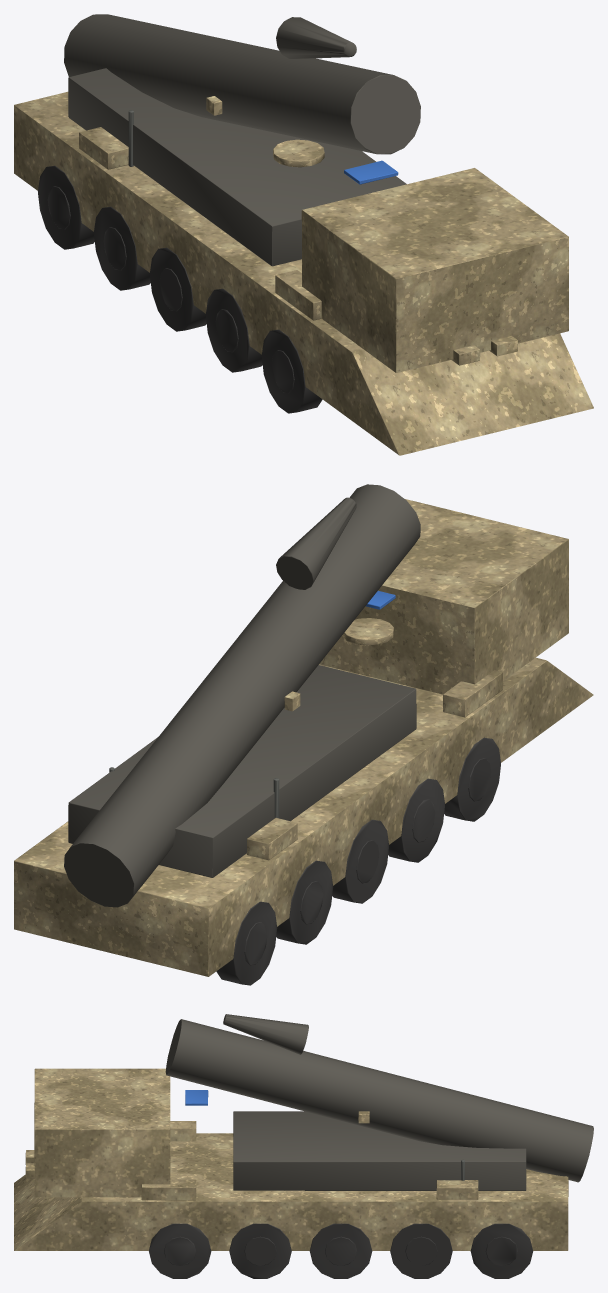
The model's file is msl_e4_us_ballistic_LOD1.glb.
The picture shows the model from 3 angles, top to bottom: view 1: azimuth 30°, elevation 25°; view 2: azimuth 150°, elevation 25°; view 3: azimuth 270°, elevation 25°; orthographic projection. The views are drawn at different scales.
Visible parts, largest first — view 1: msl_e4_us_ballistic_LOD1_body, msl_e4_us_ballistic_LOD1_deck, msl_e4_us_ballistic_LOD1_track, msl_e4_us_ballistic_LOD1_team; view 2: msl_e4_us_ballistic_LOD1_body, msl_e4_us_ballistic_LOD1_deck, msl_e4_us_ballistic_LOD1_track; view 3: msl_e4_us_ballistic_LOD1_body, msl_e4_us_ballistic_LOD1_deck, msl_e4_us_ballistic_LOD1_track, msl_e4_us_ballistic_LOD1_team.
Part boxes in pixels (<box>): msl_e4_us_ballistic_LOD1_body: <box>14,91,593,455</box>; msl_e4_us_ballistic_LOD1_deck: <box>64,14,420,266</box>; msl_e4_us_ballistic_LOD1_track: <box>38,165,322,413</box>; msl_e4_us_ballistic_LOD1_team: <box>344,160,398,184</box>; msl_e4_us_ballistic_LOD1_body: <box>14,499,593,976</box>; msl_e4_us_ballistic_LOD1_deck: <box>64,484,420,907</box>; msl_e4_us_ballistic_LOD1_track: <box>216,737,500,985</box>; msl_e4_us_ballistic_LOD1_body: <box>14,1068,568,1250</box>; msl_e4_us_ballistic_LOD1_deck: <box>165,1014,593,1190</box>; msl_e4_us_ballistic_LOD1_track: <box>149,1223,533,1278</box>; msl_e4_us_ballistic_LOD1_team: <box>185,1090,208,1105</box>.
Size of the model in its own units: 3.14 by 4.85 by 11.08.
Materials: 5 (1 with a texture image).
